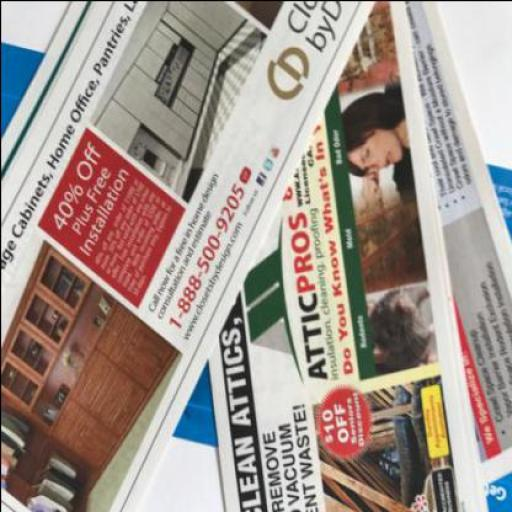paper: (0, 40, 511, 510), (0, 1, 373, 511), (208, 1, 490, 511), (406, 1, 511, 489)
